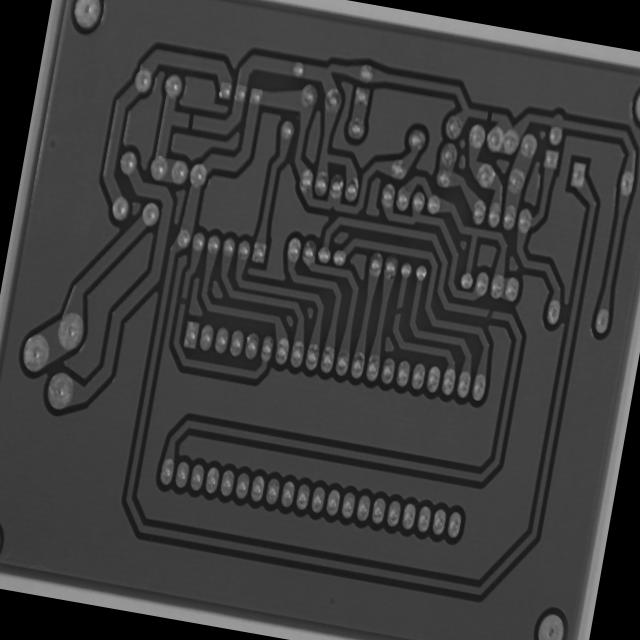open_circuit: (182, 108, 198, 134), (483, 304, 497, 324), (176, 292, 190, 310), (392, 301, 405, 320), (482, 106, 494, 122)
